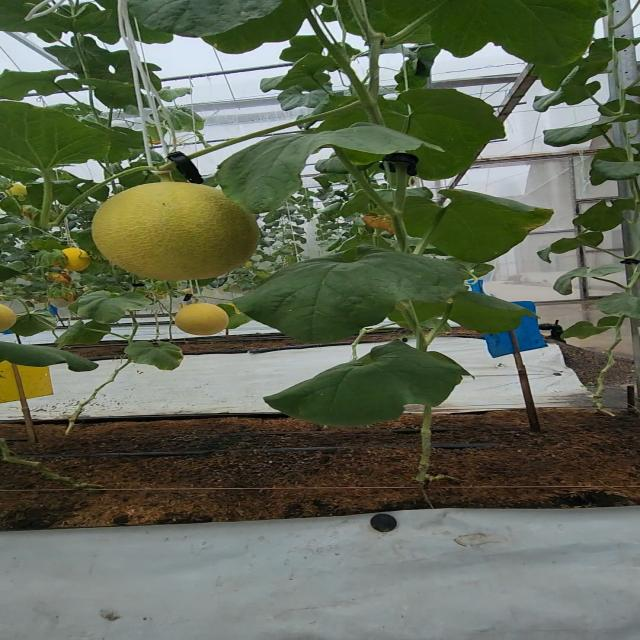Melon: (89, 180, 267, 290), (167, 300, 237, 338)
